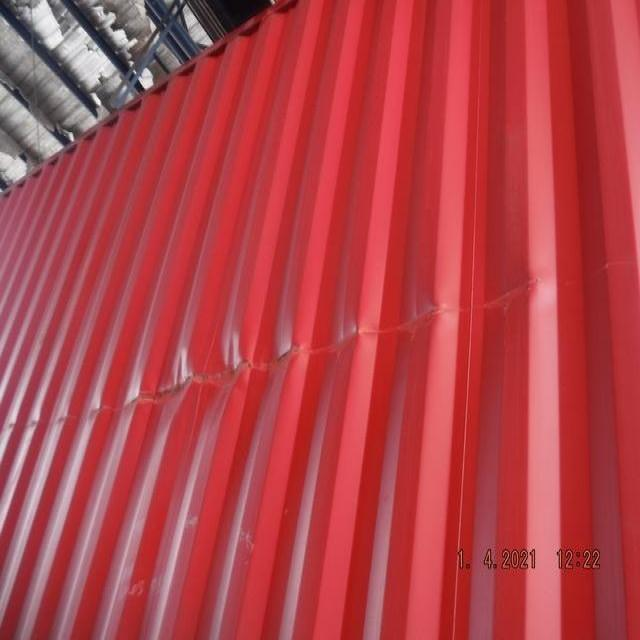dent: (114, 312, 316, 428), (324, 285, 461, 367)
